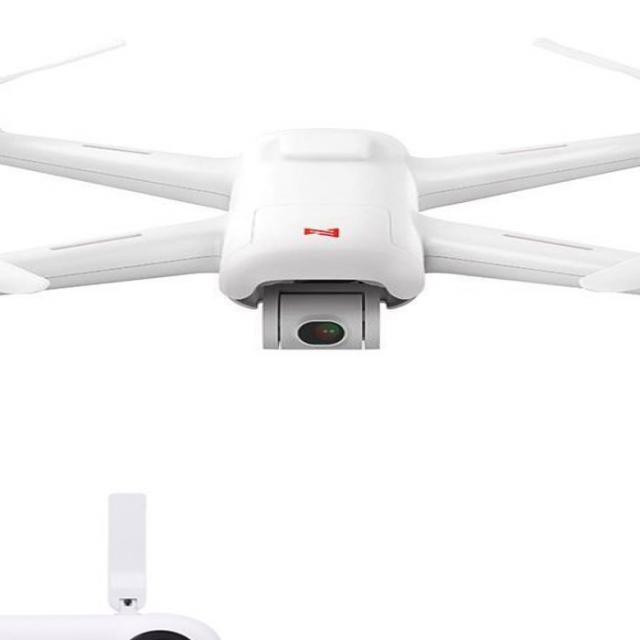drone: (0, 36, 640, 408)
